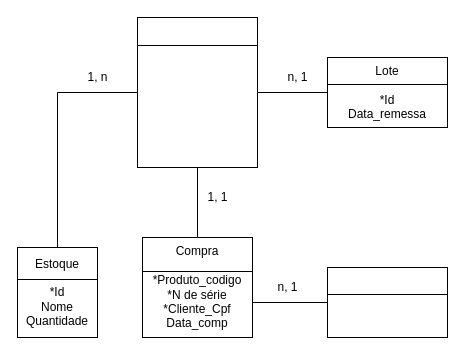
Image size: 465x355. Some labels were removed from this diagram. Each missing label, with the centre of its shape:
Cliente *Cpf Nome: [387,302]
Produto *Código *N de série Nome Descriçao Preço Data_fab Lote_Id Estoque_Id: [197,92]
